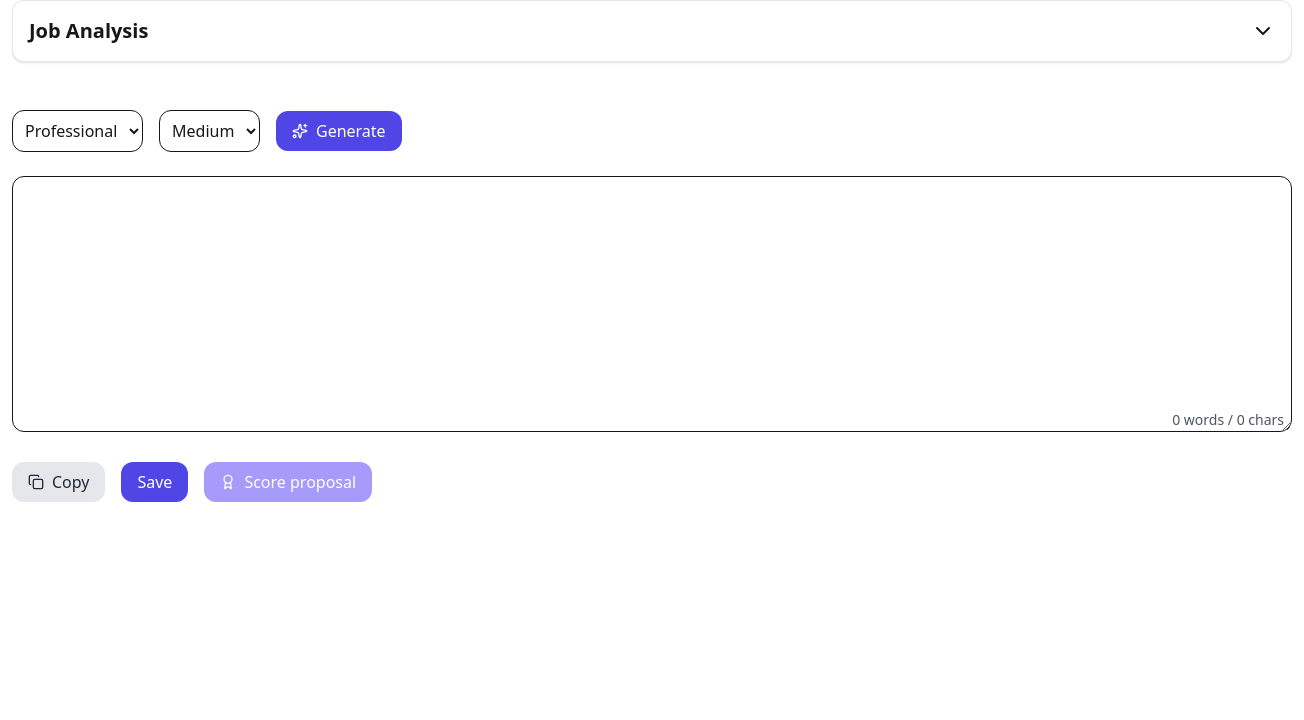
it: ProposalEditor – error box on fetch failure › shows rate limit error message
Click the button "Generate".
click(339, 131)  # box 276,111 -> 402,151
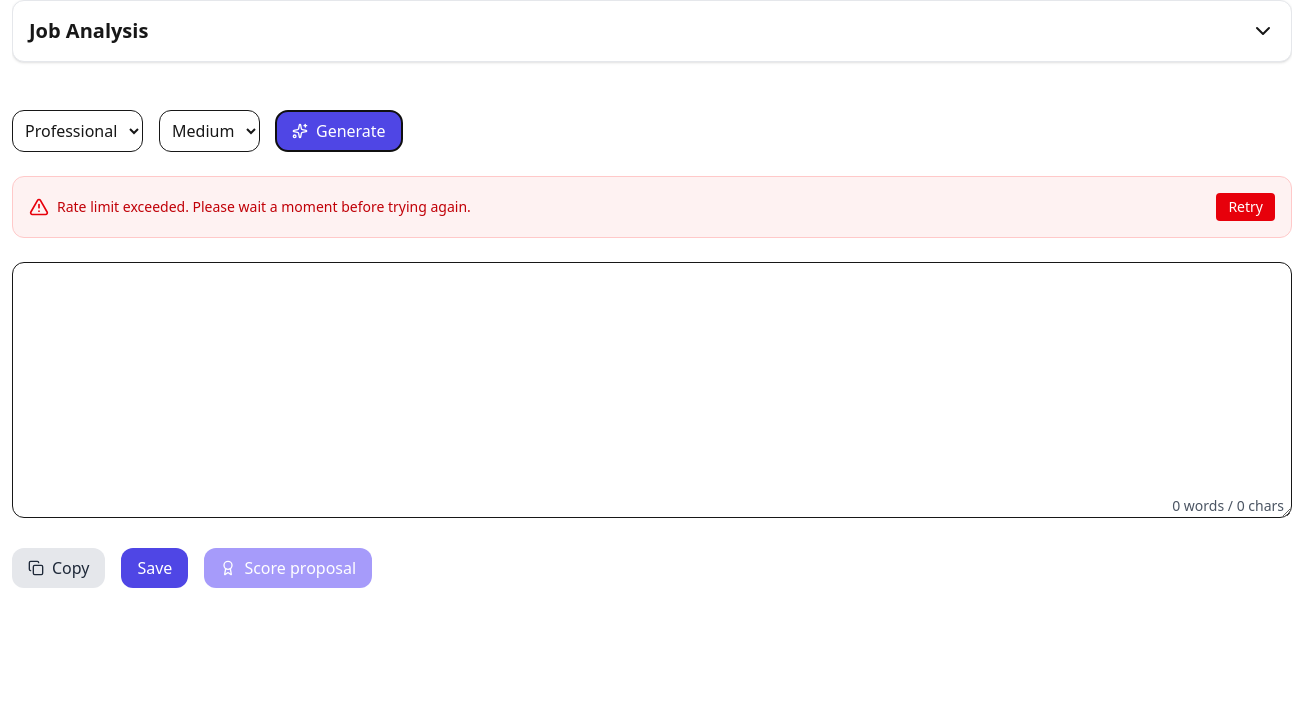
Check: the text "Rate limit exceeded" is shown, box 57,197 -> 471,216
